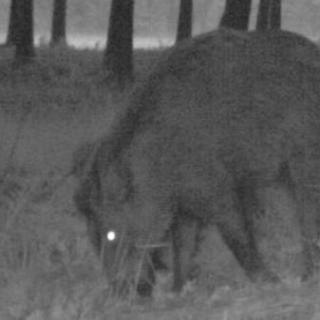Pig: (71, 16, 320, 303)
